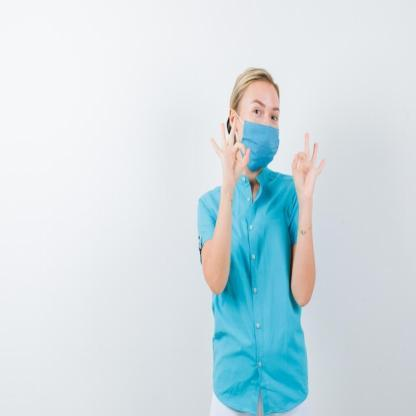ok: (209, 113, 252, 191), (290, 129, 328, 200)
